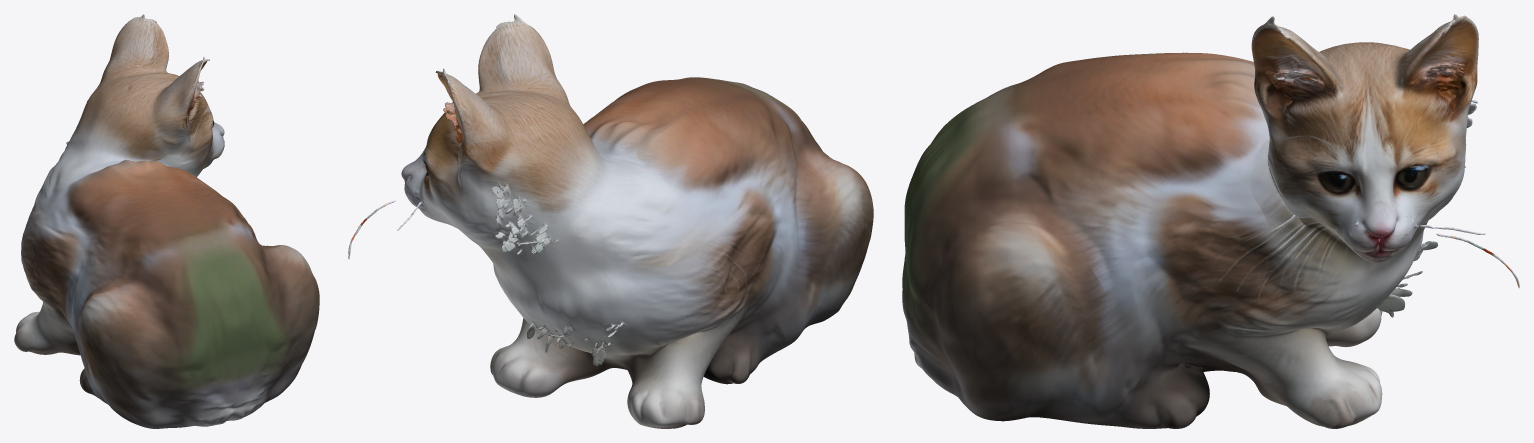
3 views of the same model, side by side, from view 1: azimuth 30°, elevation 25°; view 2: azimuth 150°, elevation 25°; view 3: azimuth 270°, elevation 25° (orthographic). The views are drawn at different scales.
Parts seen in each view (by area): view 1: tripo_node_2821bf78; view 2: tripo_node_2821bf78; view 3: tripo_node_2821bf78.
Boxes of the visible parts, <box> form: tripo_node_2821bf78: <box>14,14,319,428</box>; tripo_node_2821bf78: <box>348,14,873,428</box>; tripo_node_2821bf78: <box>902,14,1519,428</box>.
Size of the model in its own units: 73 by 79.03 by 100.
